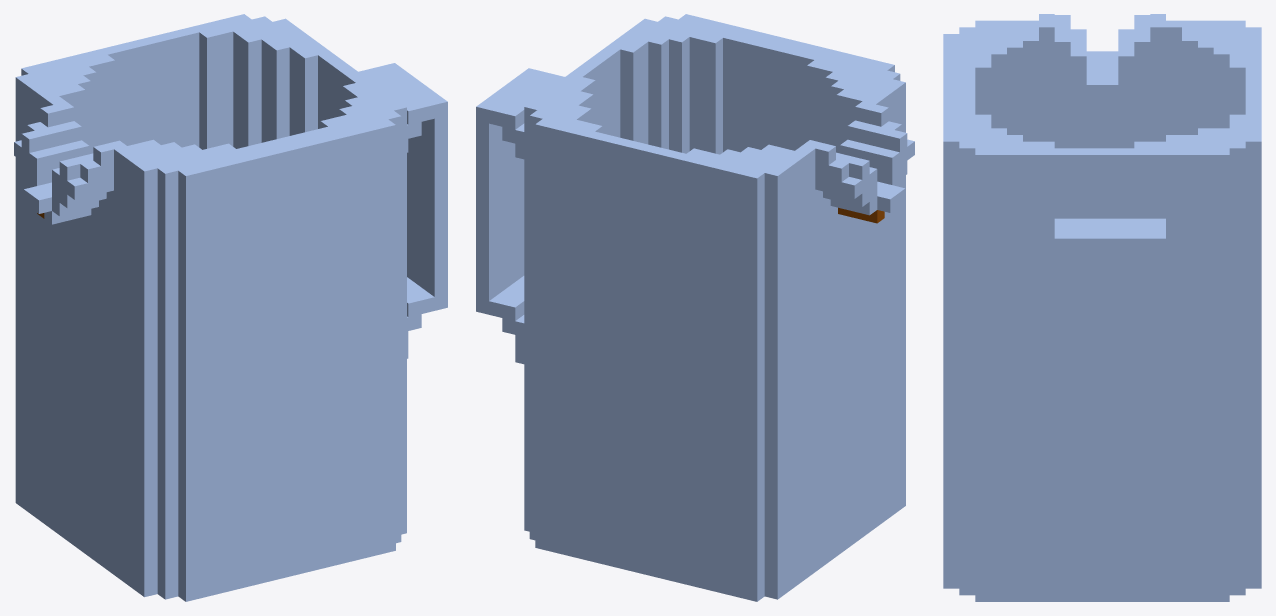
The model's file is Jarra.obj.
The picture shows the model from 3 angles, left to right: view 1: azimuth 30°, elevation 25°; view 2: azimuth 150°, elevation 25°; view 3: azimuth 270°, elevation 25°; orthographic projection. The views are drawn at different scales.
Size of the model in its own units: 3 by 3.1 by 2.
1 material, 1 textured.
